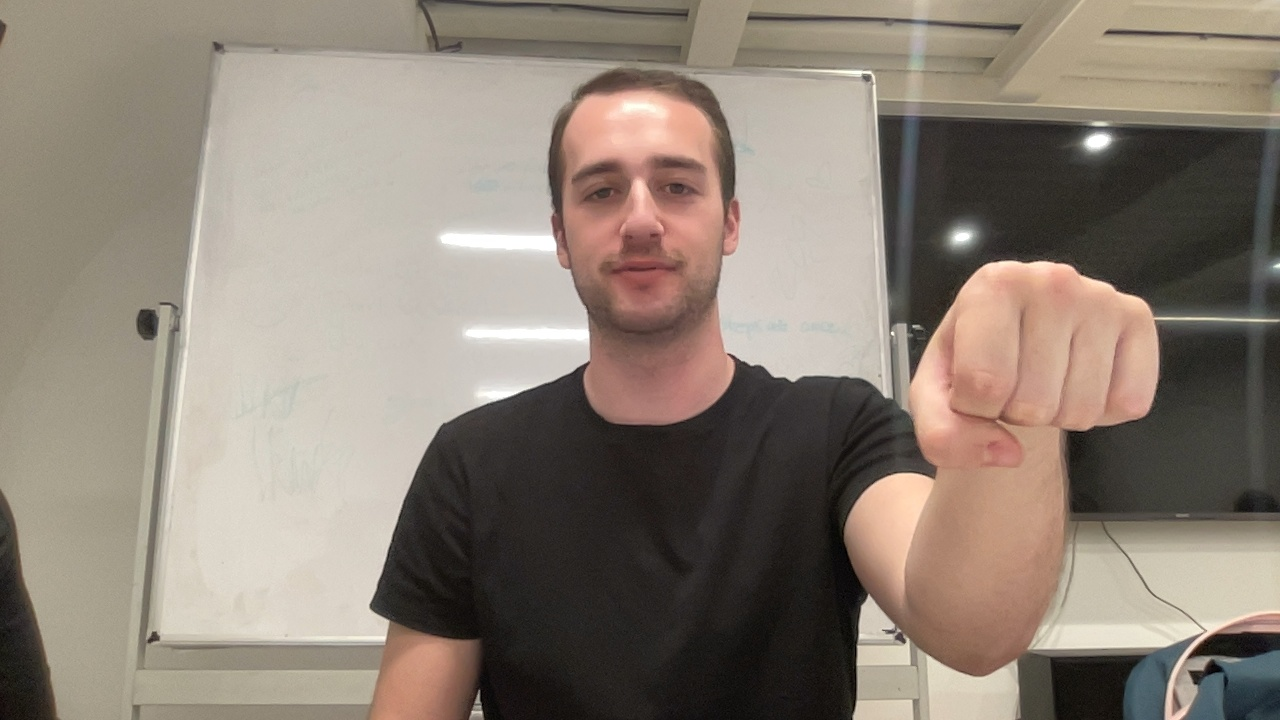Yes: (899, 254, 1167, 530)
